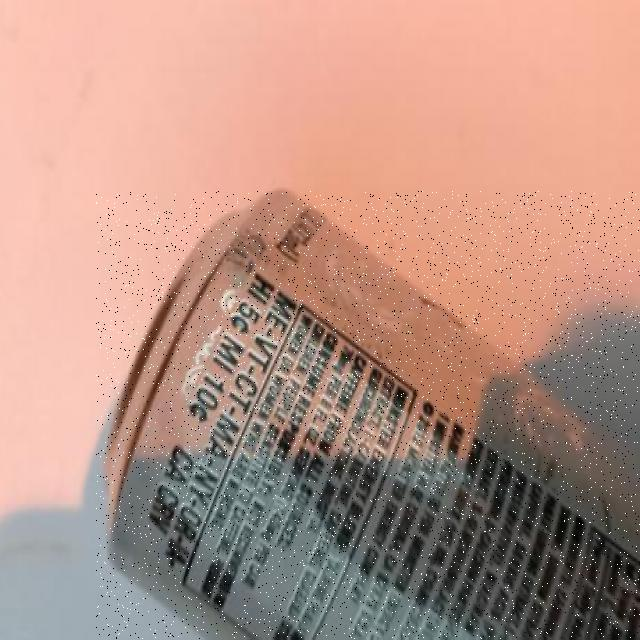metal: (96, 191, 640, 639)
